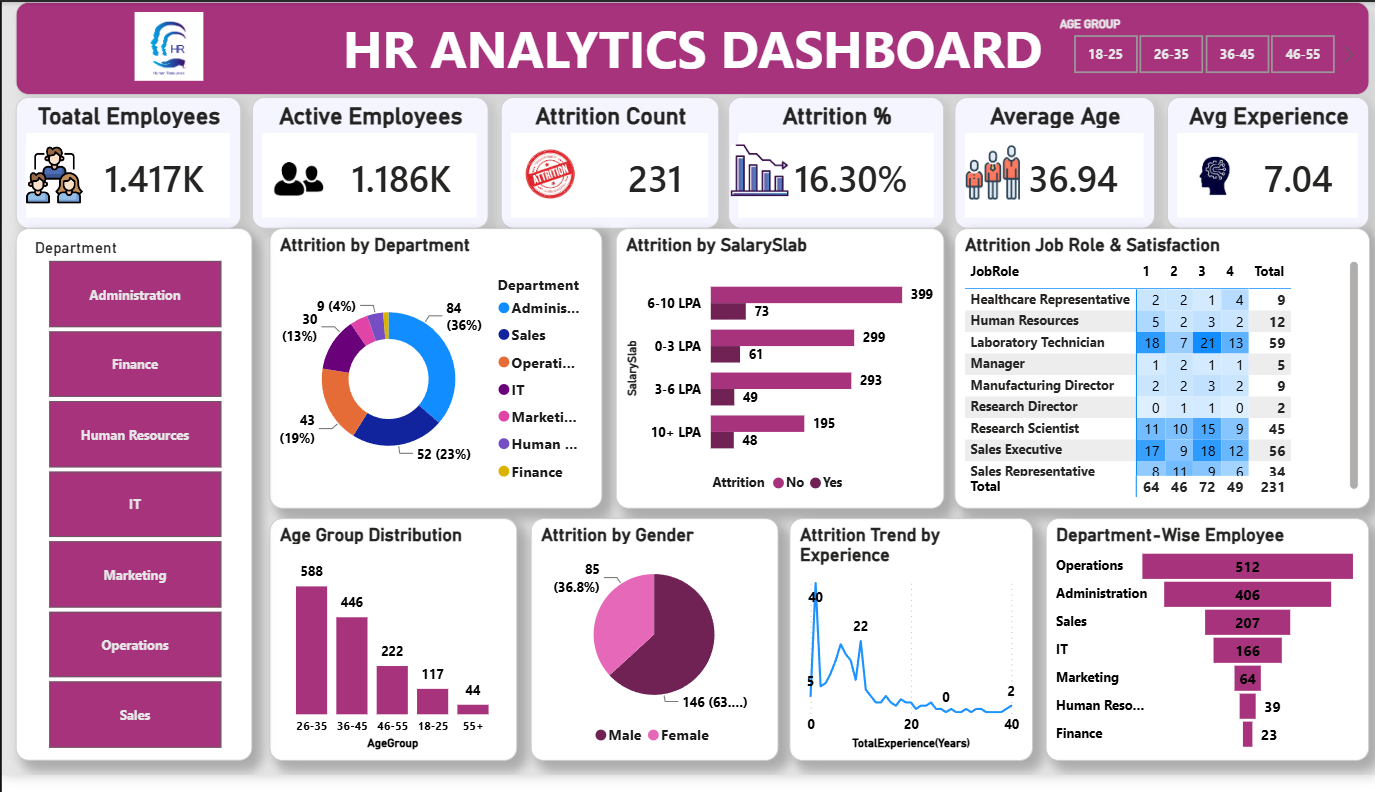

The dashboard page shown, as its layout file describes it:
{"tool":"powerbi","page":{"name":"Page 1","canvas":[1280,720],"ordinal":0},"visuals":[{"type":"textbox","box":[12.8,0,1259.3,86],"z":0},{"type":"image","box":[46.5,9.3,217.4,64],"z":1000},{"type":"cardVisual","title":"Toatal Employees","fields":{"Data":["CountNonNull(HR_Analytics-4.EmpID)"]},"box":[12.8,88.4,209.3,122.1],"z":2000},{"type":"cardVisual","title":"Active Employees","fields":{"Data":["CountNonNull(HR_Analytics-4.EmployeeCount)"]},"box":[232.6,88.4,219.8,122.1],"z":3000},{"type":"cardVisual","title":"Attrition Count","fields":{"Data":["Sum(HR_Analytics-4.AttritionCount)"]},"box":[464,88.4,203.5,122.1],"z":4000},{"type":"cardVisual","title":"Attrition %","fields":{"Data":["HR_Analytics-4.Attrition Rate %"]},"box":[675.6,88.4,201.2,122.1],"z":5000},{"type":"cardVisual","title":"Average Age","fields":{"Data":["Avg(HR_Analytics-4.Age)"]},"box":[886,88.4,186,122.1],"z":6000},{"type":"cardVisual","title":"Avg Experience","fields":{"Data":["Avg(HR_Analytics-4.YearsatCompany)"]},"box":[1083.7,88.4,188.4,122.1],"z":7000},{"type":"image","box":[12.8,133.7,72.1,54.7],"z":8000},{"type":"image","box":[248.8,134.9,54.7,59.3],"z":9000},{"type":"image","box":[676,132.7,57.8,47.6],"z":10000},{"type":"image","box":[479.1,134.9,61.6,50],"z":11000},{"type":"image","box":[1101.2,134.9,53.5,53.5],"z":12000},{"type":"image","box":[896.5,132.6,50,52.3],"z":13000},{"type":"donutChart","title":"Attrition by Department","fields":{"Category":["HR_Analytics-4.Department"],"Y":["Sum(HR_Analytics-4.AttritionCount)"]},"box":[248.8,210.5,309.3,260.5],"z":14000},{"type":"clusteredBarChart","title":"Attrition by SalarySlab","fields":{"Category":["HR_Analytics-4.SalarySlab"],"Y":["CountNonNull(HR_Analytics-4.EmpID)"],"Series":["HR_Analytics-4.Attrition"]},"box":[570.9,210.5,305.8,260.5],"z":15000},{"type":"pivotTable","title":"Attrition Job Role  & Satisfaction","fields":{"Rows":["HR_Analytics-4.JobRole"],"Values":["Sum(HR_Analytics-4.AttritionCount)"],"Columns":["HR_Analytics-4.JobSatisfaction"]},"box":[886,210.5,386,260.5],"z":16000},{"type":"columnChart","title":"Age Group Distribution","fields":{"Category":["HR_Analytics-4.AgeGroup"],"Y":["CountNonNull(HR_Analytics-4.EmpID)"]},"box":[248.8,480.2,230.2,225.6],"z":17000},{"type":"pieChart","title":"Attrition by Gender","fields":{"Category":["HR_Analytics-4.Gender"],"Y":["Sum(HR_Analytics-4.AttritionCount)"]},"box":[491.9,480.2,230.2,225.6],"z":18000},{"type":"areaChart","title":"Attrition Trend by Experience","fields":{"Category":["HR_Analytics-4.TotalExperience(Years)"],"Y2":["Sum(HR_Analytics-4.AttritionCount)"]},"box":[732.6,480.2,226.7,225.6],"z":19000},{"type":"funnel","title":"Department-Wise Employee","fields":{"Category":["HR_Analytics-4.Department"],"Y":["CountNonNull(HR_Analytics-4.EmpID)"]},"box":[970.9,480.2,301.2,225.6],"z":20000},{"type":"slicer","fields":{"Values":["HR_Analytics-4.Department"]},"box":[12.8,210.5,219.8,495.4],"z":21000},{"type":"slicer","fields":{"Values":["HR_Analytics-4.AgeGroup"]},"box":[970.9,9.3,293,64],"z":22000}]}

Visuals, with their boxes in screenshot pixels (x1, y1, x2, y2), scaled from the page's 1280x720 canvas onto the 1375x792 screenshot:
textbox: region(14, 0, 1367, 95)
image: region(50, 10, 283, 81)
"Toatal Employees" cardVisual: region(14, 97, 239, 232)
"Active Employees" cardVisual: region(250, 97, 486, 232)
"Attrition Count" cardVisual: region(498, 97, 717, 232)
"Attrition %" cardVisual: region(726, 97, 942, 232)
"Average Age" cardVisual: region(952, 97, 1152, 232)
"Avg Experience" cardVisual: region(1164, 97, 1367, 232)
image: region(14, 147, 91, 207)
image: region(267, 148, 326, 214)
image: region(726, 146, 788, 198)
image: region(515, 148, 581, 203)
image: region(1183, 148, 1240, 207)
image: region(963, 146, 1017, 203)
"Attrition by Department" donutChart: region(267, 232, 600, 518)
"Attrition by SalarySlab" clusteredBarChart: region(613, 232, 942, 518)
"Attrition Job Role  & Satisfaction" pivotTable: region(952, 232, 1366, 518)
"Age Group Distribution" columnChart: region(267, 528, 515, 776)
"Attrition by Gender" pieChart: region(528, 528, 776, 776)
"Attrition Trend by Experience" areaChart: region(787, 528, 1030, 776)
"Department-Wise Employee" funnel: region(1043, 528, 1367, 776)
slicer - HR_Analytics-4.Department: region(14, 232, 250, 776)
slicer - HR_Analytics-4.AgeGroup: region(1043, 10, 1358, 81)
